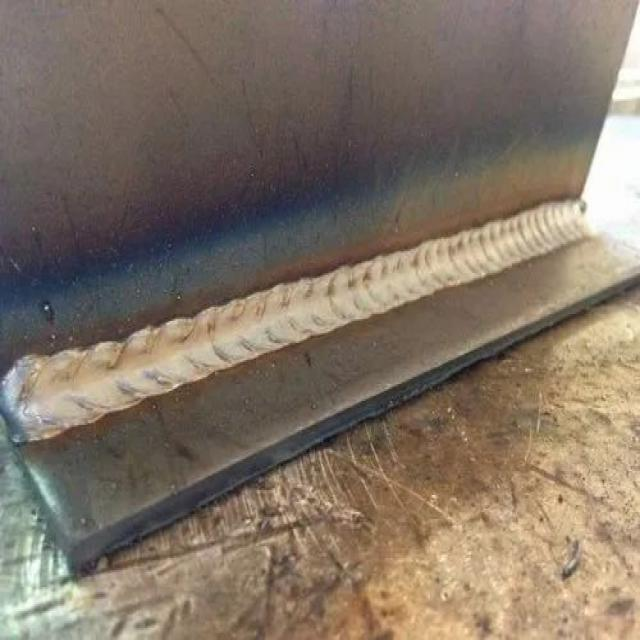Good Weld: (18, 197, 602, 440)
